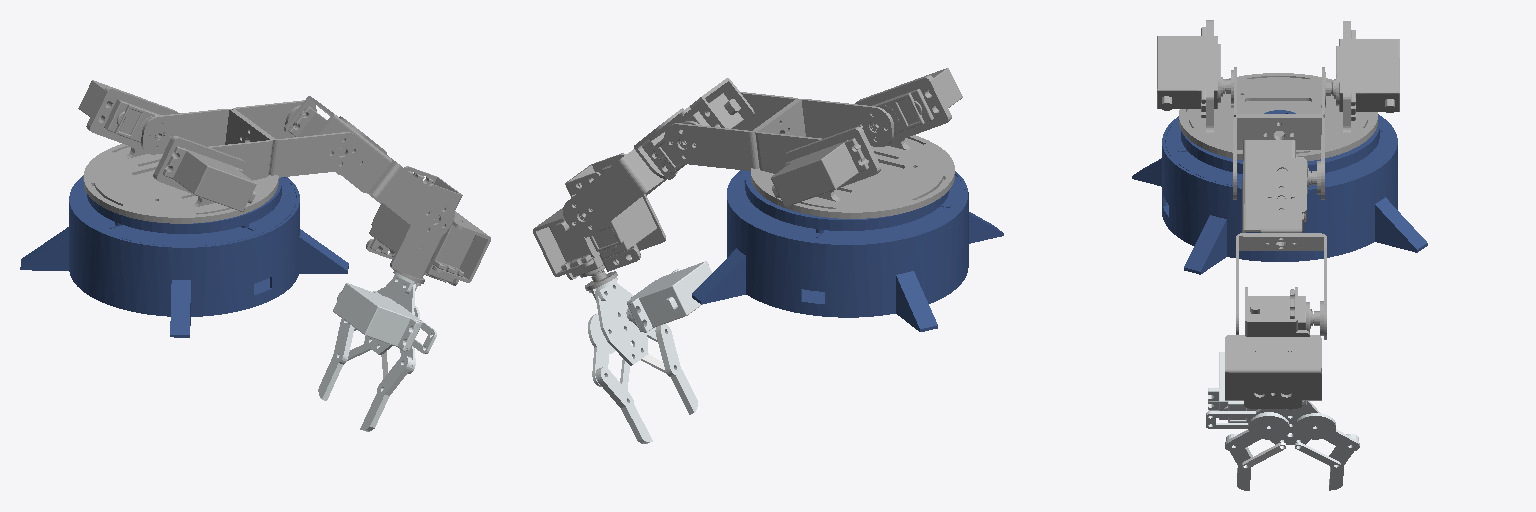
URDF robot description (robot_arm):
<?xml version="1.0" ?>
<!-- =================================================================================== -->
<!-- |    This document was autogenerated by xacro from robot_arm.xacro                | -->
<!-- |    EDITING THIS FILE BY HAND IS NOT RECOMMENDED                                 | -->
<!-- =================================================================================== -->
<robot name="robot_arm">
  <material name="silver">
    <color rgba="0.7 0.7 0.7 1.0"/>
  </material>
  <material name="blue">
    <color rgba="0.3 0.4 0.6 1.0"/>
  </material>
  <transmission name="joint_1_trans">
    <type>transmission_interface/SimpleTransmission</type>
    <joint name="joint_1">
      <hardwareInterface>hardware_interface/PositionJointInterface</hardwareInterface>
    </joint>
    <actuator name="joint_1_actr">
      <hardwareInterface>hardware_interface/PositionJointInterface</hardwareInterface>
      <mechanicalReduction>1</mechanicalReduction>
    </actuator>
  </transmission>
  <transmission name="joint_2_trans">
    <type>transmission_interface/SimpleTransmission</type>
    <joint name="joint_2">
      <hardwareInterface>hardware_interface/PositionJointInterface</hardwareInterface>
    </joint>
    <actuator name="joint_2_actr">
      <hardwareInterface>hardware_interface/PositionJointInterface</hardwareInterface>
      <mechanicalReduction>1</mechanicalReduction>
    </actuator>
  </transmission>
  <transmission name="joint_3_trans">
    <type>transmission_interface/SimpleTransmission</type>
    <joint name="joint_3">
      <hardwareInterface>hardware_interface/PositionJointInterface</hardwareInterface>
    </joint>
    <actuator name="joint_3_actr">
      <hardwareInterface>hardware_interface/PositionJointInterface</hardwareInterface>
      <mechanicalReduction>1</mechanicalReduction>
    </actuator>
  </transmission>
  <transmission name="joint_4_trans">
    <type>transmission_interface/SimpleTransmission</type>
    <joint name="joint_4">
      <hardwareInterface>hardware_interface/PositionJointInterface</hardwareInterface>
    </joint>
    <actuator name="joint_4_actr">
      <hardwareInterface>hardware_interface/PositionJointInterface</hardwareInterface>
      <mechanicalReduction>1</mechanicalReduction>
    </actuator>
  </transmission>
  <transmission name="joint_5_trans">
    <type>transmission_interface/SimpleTransmission</type>
    <joint name="joint_5">
      <hardwareInterface>hardware_interface/PositionJointInterface</hardwareInterface>
    </joint>
    <actuator name="joint_5_actr">
      <hardwareInterface>hardware_interface/PositionJointInterface</hardwareInterface>
      <mechanicalReduction>1</mechanicalReduction>
    </actuator>
  </transmission>
  <!-- gripper -->
  <transmission name="hand_joint1_trans">
    <type>transmission_interface/SimpleTransmission</type>
    <joint name="hand_joint1">
      <hardwareInterface>hardware_interface/PositionJointInterface</hardwareInterface>
    </joint>
    <actuator name="hand_joint1_actr">
      <hardwareInterface>hardware_interface/PositionJointInterface</hardwareInterface>
      <mechanicalReduction>1</mechanicalReduction>
    </actuator>
  </transmission>
  <transmission name="hand_grip_joint1_trans">
    <type>transmission_interface/SimpleTransmission</type>
    <joint name="hand_grip_joint1">
      <hardwareInterface>hardware_interface/PositionJointInterface</hardwareInterface>
    </joint>
    <actuator name="hand_grip_joint1_actr">
      <hardwareInterface>hardware_interface/PositionJointInterface</hardwareInterface>
      <mechanicalReduction>1</mechanicalReduction>
    </actuator>
  </transmission>
  <transmission name="gripper_joint_trans">
    <type>transmission_interface/SimpleTransmission</type>
    <joint name="gripper_joint">
      <hardwareInterface>hardware_interface/PositionJointInterface</hardwareInterface>
    </joint>
    <actuator name="gripper_joint_actr">
      <hardwareInterface>hardware_interface/PositionJointInterface</hardwareInterface>
      <mechanicalReduction>1</mechanicalReduction>
    </actuator>
  </transmission>
  <transmission name="hand_grip_joint2_trans">
    <type>transmission_interface/SimpleTransmission</type>
    <joint name="hand_grip_joint2">
      <hardwareInterface>hardware_interface/PositionJointInterface</hardwareInterface>
    </joint>
    <actuator name="hand_grip_joint2_actr">
      <hardwareInterface>hardware_interface/PositionJointInterface</hardwareInterface>
      <mechanicalReduction>1</mechanicalReduction>
    </actuator>
  </transmission>
  <transmission name="mid_joint_1_trans">
    <type>transmission_interface/SimpleTransmission</type>
    <joint name="mid_joint_1">
      <hardwareInterface>hardware_interface/PositionJointInterface</hardwareInterface>
    </joint>
    <actuator name="mid_joint_1_actr">
      <hardwareInterface>hardware_interface/PositionJointInterface</hardwareInterface>
      <mechanicalReduction>1</mechanicalReduction>
    </actuator>
  </transmission>
  <transmission name="mid_joint_2_trans">
    <type>transmission_interface/SimpleTransmission</type>
    <joint name="mid_joint_2">
      <hardwareInterface>hardware_interface/PositionJointInterface</hardwareInterface>
    </joint>
    <actuator name="mid_joint_2_actr">
      <hardwareInterface>hardware_interface/PositionJointInterface</hardwareInterface>
      <mechanicalReduction>1</mechanicalReduction>
    </actuator>
  </transmission>
  <gazebo>
    <plugin filename="libgazebo_ros_control.so" name="gazebo_ros_control"/>
  </gazebo>
  <gazebo reference="base_link">
    <material>Gazebo/Silver</material>
    <mu1>0.2</mu1>
    <mu2>0.2</mu2>
  </gazebo>
  <gazebo reference="Link1_1">
    <material>Gazebo/Silver</material>
    <mu1>0.2</mu1>
    <mu2>0.2</mu2>
  </gazebo>
  <gazebo reference="Link2_1">
    <material>Gazebo/Silver</material>
    <mu1>0.2</mu1>
    <mu2>0.2</mu2>
  </gazebo>
  <gazebo reference="Link3_1">
    <material>Gazebo/Silver</material>
    <mu1>0.2</mu1>
    <mu2>0.2</mu2>
  </gazebo>
  <gazebo reference="Link4_1">
    <material>Gazebo/Silver</material>
    <mu1>0.2</mu1>
    <mu2>0.2</mu2>
  </gazebo>
  <link name="world"/>
  <joint name="base_fixed_joint" type="fixed">
    <origin rpy="0 0 1.57" xyz="0 0 0"/>
    <parent link="world"/>
    <child link="base_link"/>
  </joint>
  <link name="base_link">
    <inertial>
      <origin rpy="0 0 0" xyz="-0.0019226671084236508 0.03127199959893212 0.003074002176362074"/>
      <mass value="0.1"/>
      <inertia ixx="0.0135" ixy="0.0" ixz="0.0" iyy="0.0135" iyz="0.0" izz="0.05"/>
    </inertial>
    <visual>
      <origin rpy="1.57 0 1.3" xyz="0 0 0"/>
      <geometry>
        <mesh filename="package://my_arm_description/meshes/base_link.stl" scale="0.001 0.001 0.001"/>
      </geometry>
      <material name="blue"/>
    </visual>
    <collision>
      <origin rpy="1.57 0 1.3" xyz="0 0 0"/>
      <geometry>
        <mesh filename="package://my_arm_description/meshes/base_link.stl" scale="0.001 0.001 0.001"/>
      </geometry>
    </collision>
  </link>
  <link name="Link1_1">
    <inertial>
      <origin rpy="0 0 0" xyz="-4.991869489348773e-06 0.01780900870871517 0.005735315172792203"/>
      <mass value="0.08948947756149551"/>
      <inertia ixx="0.000574" ixy="-1.2e-05" ixz="-2e-05" iyy="0.002344" iyz="-7.9e-05" izz="0.002106"/>
    </inertial>
    <visual>
      <origin rpy="0 0 0" xyz="0.002688 -0.06295 -0.001684"/>
      <geometry>
        <mesh filename="package://my_arm_description/meshes/Link1_1.stl" scale="0.001 0.001 0.001"/>
      </geometry>
      <material name="silver"/>
    </visual>
    <collision>
      <origin rpy="0 0 0" xyz="0.002688 -0.06295 -0.001684"/>
      <geometry>
        <mesh filename="package://my_arm_description/meshes/Link1_1.stl" scale="0.001 0.001 0.001"/>
      </geometry>
    </collision>
  </link>
  <link name="Link2_1">
    <inertial>
      <origin rpy="0 0 0" xyz="0.025500212363618904 0.050000197846483144 2.9486110807164234e-07"/>
      <mass value="0.01268747558623512"/>
      <inertia ixx="0.000111" ixy="0.0" ixz="-0.0" iyy="7.8e-05" iyz="-0.0" izz="0.000176"/>
    </inertial>
    <visual>
      <origin rpy="0 0 0" xyz="0.028738 -0.084331 -0.001684"/>
      <geometry>
        <mesh filename="package://my_arm_description/meshes/Link2_1.stl" scale="0.001 0.001 0.001"/>
      </geometry>
      <material name="silver"/>
    </visual>
    <collision>
      <origin rpy="0 0 0" xyz="0.028738 -0.084331 -0.001684"/>
      <geometry>
        <mesh filename="package://my_arm_description/meshes/Link2_1.stl" scale="0.001 0.001 0.001"/>
      </geometry>
    </collision>
  </link>
  <link name="Link3_1">
    <inertial>
      <origin rpy="0 0 0" xyz="0.027076002474259824 0.019409440802769573 0.002368883434935072"/>
      <mass value="0.03877413615001566"/>
      <inertia ixx="0.00025" ixy="1e-05" ixz="0.0" iyy="0.000103" iyz="-7e-06" izz="0.00031"/>
    </inertial>
    <visual>
      <origin rpy="0 0 0" xyz="0.028738 -0.184331 -0.001684"/>
      <geometry>
        <mesh filename="package://my_arm_description/meshes/Link3_1.stl" scale="0.001 0.001 0.001"/>
      </geometry>
      <material name="silver"/>
    </visual>
    <collision>
      <origin rpy="0 0 0" xyz="0.028738 -0.184331 -0.001684"/>
      <geometry>
        <mesh filename="package://my_arm_description/meshes/Link3_1.stl" scale="0.001 0.001 0.001"/>
      </geometry>
    </collision>
  </link>
  <link name="Link4_1">
    <inertial>
      <origin rpy="0 0 0" xyz="0.02792782389157162 0.0015768795382742895 -0.009656526599892783"/>
      <mass value="0.030477625056794005"/>
      <inertia ixx="6.9e-05" ixy="-1e-06" ixz="2e-06" iyy="9.7e-05" iyz="0.0" izz="5.9e-05"/>
    </inertial>
    <visual>
      <origin rpy="0 0 0" xyz="0.030288 -0.27563 -0.005184"/>
      <geometry>
        <mesh filename="package://my_arm_description/meshes/Link4_1.stl" scale="0.001 0.001 0.001"/>
      </geometry>
      <material name="silver"/>
    </visual>
    <collision>
      <origin rpy="0 0 0" xyz="0.030288 -0.27563 -0.005184"/>
      <geometry>
        <mesh filename="package://my_arm_description/meshes/Link4_1.stl" scale="0.001 0.001 0.001"/>
      </geometry>
    </collision>
  </link>
  <link name="Link5_1">
    <inertial>
      <origin rpy="0 0 0" xyz="0.02792782389157162 0.0015768795382742895 -0.009656526599892783"/>
      <mass value="0.030477625056794005"/>
      <inertia ixx="6.9e-05" ixy="-1e-06" ixz="2e-06" iyy="9.7e-05" iyz="0.0" izz="5.9e-05"/>
    </inertial>
    <visual>
      <origin rpy="0 0 0" xyz="0.030288 -0.27563 -0.005184"/>
      <geometry>
        <mesh filename="package://my_arm_description/meshes/Link4_1.stl" scale="0.001 0.001 0.001"/>
      </geometry>
      <material name="silver"/>
    </visual>
    <collision>
      <origin rpy="0 0 0" xyz="0.030288 -0.27563 -0.005184"/>
      <geometry>
        <mesh filename="package://my_arm_description/meshes/Link4_1.stl" scale="0.001 0.001 0.001"/>
      </geometry>
    </collision>
  </link>
  <joint name="joint_1" type="revolute">
    <origin rpy="1.57 0 3.14" xyz="0 0 0.06"/>
    <parent link="base_link"/>
    <child link="Link1_1"/>
    <axis xyz="0 1 0"/>
    <limit effort="5.0" lower="0.0" upper="3.14" velocity="1.57"/>
  </joint>
  <joint name="joint_2" type="revolute">
    <origin rpy="-1.7 0 0" xyz="-0.02605 0.021381 0.0"/>
    <parent link="Link1_1"/>
    <child link="Link2_1"/>
    <axis xyz="1 0 0"/>
    <limit effort="5.0" lower="0.0" upper="3.14" velocity="1.57"/>
  </joint>
  <joint name="joint_3" type="revolute">
    <origin rpy="3.8 0 0" xyz="0.0 0.1 0.0"/>
    <parent link="Link2_1"/>
    <child link="Link3_1"/>
    <axis xyz="1 0 0"/>
    <limit effort="5.0" lower="0.52" upper="3.14" velocity="1.57"/>
  </joint>
  <joint name="joint_4" type="revolute">
    <origin rpy="-1.57 0 0" xyz="-0.00155 0.091299 0.0035"/>
    <parent link="Link3_1"/>
    <child link="Link4_1"/>
    <axis xyz="1 0 0"/>
    <limit effort="5.0" lower="0.52" upper="3.14" velocity="1.57"/>
  </joint>
  <joint name="joint_5_fixed" type="fixed">
    <origin rpy="0 -1.57 0" xyz="0.02 0.025 -0.045"/>
    <parent link="Link4_1"/>
    <child link="Link5_1"/>
  </joint>
  <!-- gripper -->
  <joint name="joint_5" type="revolute">
    <!-- <origin rpy="1.57 0.7 -1.57" xyz="0 0 0"/> -->
    <origin rpy="1.57 -1.57 -1.57" xyz="0 0 0"/>
    <parent link="Link5_1"/>
    <child link="grip_base_link"/>
    <axis xyz="0 0 1"/>
    <limit effort="5.0" lower="0.0" upper="1.57" velocity="1.57"/>
  </joint>
  <link name="grip_base_link">
    <inertial>
      <origin rpy="0 0 0" xyz="-0.020531 -0.021072 0.02563"/>
      <mass value="0.00367"/>
      <inertia ixx="5.4785E-06" ixy="-5.5445E-08" ixz="-8.0352E-09" iyy="7.0866E-06" iyz="-7.7291E-13" izz="9.4579E-06"/>
    </inertial>
    <visual>
      <origin rpy="0 0 0" xyz="0 0 0"/>
      <geometry>
        <mesh filename="package://my_arm_description/meshes/gripper_meshes/grip_base_link.STL"/>
      </geometry>
      <material name="">
        <color rgba="0.89804 0.92157 0.92941 1"/>
      </material>
    </visual>
    <collision>
      <origin rpy="0 0 0" xyz="0 0 0"/>
      <geometry>
        <mesh filename="package://my_arm_description/meshes/gripper_meshes/grip_base_link.STL"/>
      </geometry>
    </collision>
  </link>
  <link name="hand_link1">
    <inertial>
      <origin rpy="0 0 0" xyz="-0.00523492547000686 0.00492501926066897 -0.00100000000000003"/>
      <mass value="0.000142065726893586"/>
      <inertia ixx="1.22964066308207E-07" ixy="8.46203793647206E-08" ixz="3.23650142493458E-27" iyy="1.33298297071557E-07" iyz="-7.87479068447034E-25" izz="2.55315258533807E-07"/>
    </inertial>
    <visual>
      <origin rpy="0 0 0" xyz="0 0 0"/>
      <geometry>
        <mesh filename="package://my_arm_description/meshes/gripper_meshes/hand_link1.STL"/>
      </geometry>
      <material name="">
        <color rgba="0.898039215686275 0.92156862745098 0.929411764705882 1"/>
      </material>
    </visual>
    <collision>
      <origin rpy="0 0 0" xyz="0 0 0"/>
      <geometry>
        <mesh filename="package://my_arm_description/meshes/gripper_meshes/hand_link1.STL"/>
      </geometry>
    </collision>
  </link>
  <joint name="hand_joint1" type="revolute">
    <origin rpy="1.5708 0 3.1416" xyz="0.015 0.00535 0.02625"/>
    <parent link="grip_base_link"/>
    <child link="hand_link1"/>
    <axis xyz="0 0 1"/>
    <limit effort="5.0" lower="-0.5" upper="0.5" velocity="1.57"/>
    <mimic joint="gripper_joint" multiplier="-1"/>
  </joint>
  <link name="hand_grip1">
    <inertial>
      <origin rpy="0 0 0" xyz="0.00594567238082101 0.0203210851839823 -0.00399999969237515"/>
      <mass value="0.000187045062582082"/>
      <inertia ixx="4.0782602368236E-07" ixy="-7.95845983485053E-08" ixz="-1.31395403259131E-14" iyy="3.53476941089525E-08" iyz="-2.03499073074993E-14" izz="4.38185846898205E-07"/>
    </inertial>
    <visual>
      <origin rpy="0 0 0" xyz="0 0 0"/>
      <geometry>
        <mesh filename="package://my_arm_description/meshes/gripper_meshes/hand_grip1.STL"/>
      </geometry>
      <material name="">
        <color rgba="0.898039215686275 0.92156862745098 0.929411764705882 1"/>
      </material>
    </visual>
    <collision>
      <origin rpy="0 0 0" xyz="0 0 0"/>
      <geometry>
        <mesh filename="package://my_arm_description/meshes/gripper_meshes/hand_grip1.STL"/>
      </geometry>
    </collision>
  </link>
  <joint name="hand_grip_joint1" type="revolute">
    <origin rpy="0 0 0" xyz="-0.021122 0.019871 0"/>
    <parent link="hand_link1"/>
    <child link="hand_grip1"/>
    <axis xyz="0 0 1"/>
    <limit effort="5.0" lower="-0.5" upper="0.5" velocity="1.57"/>
    <mimic joint="gripper_joint" multiplier="1"/>
  </joint>
  <link name="hand_link2">
    <inertial>
      <origin rpy="0 0 0" xyz="0.00521580581542747 0.00494526329837284 -0.00100000000000003"/>
      <mass value="0.000142065726893586"/>
      <inertia ixx="1.2361988419095E-07" ixy="-8.46578754757815E-08" ixz="6.873768146667E-25" iyy="1.32642479188815E-07" iyz="7.7917326290555E-25" izz="2.55315258533807E-07"/>
    </inertial>
    <visual>
      <origin rpy="0 0 0" xyz="0 0 0"/>
      <geometry>
        <mesh filename="package://my_arm_description/meshes/gripper_meshes/hand_link2.STL"/>
      </geometry>
      <material name="">
        <color rgba="0.898039215686275 0.92156862745098 0.929411764705882 1"/>
      </material>
    </visual>
    <collision>
      <origin rpy="0 0 0" xyz="0 0 0"/>
      <geometry>
        <mesh filename="package://my_arm_description/meshes/gripper_meshes/hand_link2.STL"/>
      </geometry>
    </collision>
  </link>
  <joint name="gripper_joint" type="revolute">
    <origin rpy="1.5708 0 3.1416" xyz="-0.013 0.00535 0.02625"/>
    <parent link="grip_base_link"/>
    <child link="hand_link2"/>
    <axis xyz="0 0 1"/>
    <limit effort="5.0" lower="-0.5" upper="0.5" velocity="1.57"/>
  </joint>
  <link name="hand_grip2">
    <inertial>
      <origin rpy="0 0 0" xyz="-0.00445045993813949 0.020700021082788 -0.00400000030762493"/>
      <mass value="0.000187045056346137"/>
      <inertia ixx="4.17408949625888E-07" ixy="5.16953875644496E-08" ixz="-1.17218822252589E-14" iyy="2.57647082341614E-08" iyz="2.12711331247855E-14" izz="4.38185787066717E-07"/>
    </inertial>
    <visual>
      <origin rpy="0 0 0" xyz="0 0 0"/>
      <geometry>
        <mesh filename="package://my_arm_description/meshes/gripper_meshes/hand_grip2.STL"/>
      </geometry>
      <material name="">
        <color rgba="0.898039215686275 0.92156862745098 0.929411764705882 1"/>
      </material>
    </visual>
    <collision>
      <origin rpy="0 0 0" xyz="0 0 0"/>
      <geometry>
        <mesh filename="package://my_arm_description/meshes/gripper_meshes/hand_grip2.STL"/>
      </geometry>
    </collision>
  </link>
  <joint name="hand_grip_joint2" type="revolute">
    <origin rpy="0 0 0" xyz="0.021045 0.019953 0"/>
    <parent link="hand_link2"/>
    <child link="hand_grip2"/>
    <axis xyz="0 0 -1"/>
    <limit effort="5.0" lower="-0.4" upper="0.4" velocity="1.57"/>
    <mimic joint="gripper_joint" multiplier="1"/>
  </joint>
  <link name="mid_link1">
    <inertial>
      <origin rpy="0 0 0" xyz="-0.0113240288488907 0.00983698991711786 -0.00100000000000003"/>
      <mass value="0.0000310995574287565"/>
      <inertia ixx="1.1783554463848E-08" ixy="1.26737094661928E-08" ixz="7.03369446242362E-26" iyy="1.53636899711256E-08" iyz="3.46383537128379E-26" izz="2.69399140521153E-08"/>
    </inertial>
    <visual>
      <origin rpy="0 0 0" xyz="0 0 0"/>
      <geometry>
        <mesh filename="package://my_arm_description/meshes/gripper_meshes/mid_link1.STL"/>
      </geometry>
      <material name="">
        <color rgba="0.898039215686275 0.92156862745098 0.929411764705882 1"/>
      </material>
    </visual>
    <collision>
      <origin rpy="0 0 0" xyz="0 0 0"/>
      <geometry>
        <mesh filename="package://my_arm_description/meshes/gripper_meshes/mid_link1.STL"/>
      </geometry>
    </collision>
  </link>
  <joint name="mid_joint_1" type="revolute">
    <origin rpy="1.5708 0 3.1416" xyz="0.005 0.00535 0.04675"/>
    <parent link="grip_base_link"/>
    <child link="mid_link1"/>
    <axis xyz="0 0 -1"/>
    <limit effort="5.0" lower="-0.6" upper="0.6" velocity="1.57"/>
    <mimic joint="gripper_joint" multiplier="1"/>
  </joint>
  <link name="mid_link2">
    <inertial>
      <origin rpy="0 0 0" xyz="0 0 0"/>
      <mass value="0.00003"/>
      <inertia ixx="0" ixy="0" ixz="0" iyy="0" iyz="0" izz="0"/>
    </inertial>
    <visual>
      <origin rpy="0 0 0" xyz="0 0 0"/>
      <geometry>
        <mesh filename="package://my_arm_description/meshes/gripper_meshes/mid_link2.STL"/>
      </geometry>
      <material name="">
        <color rgba="1 1 1 1"/>
      </material>
    </visual>
    <collision>
      <origin rpy="0 0 0" xyz="0 0 0"/>
      <geometry>
        <mesh filename="package://my_arm_description/meshes/gripper_meshes/mid_link2.STL"/>
      </geometry>
    </collision>
  </link>
  <joint name="mid_joint_2" type="revolute">
    <origin rpy="1.5708 0 3.1416" xyz="-0.005 0.00535 0.04675"/>
    <parent link="grip_base_link"/>
    <child link="mid_link2"/>
    <axis xyz="0 0 -1"/>
    <limit effort="5.0" lower="-0.6" upper="0.6" velocity="1.57"/>
    <mimic joint="gripper_joint" multiplier="-1"/>
  </joint>
  <!-- TCP -->
  <link name="tool_link"/>
  <joint name="tool_joint" type="fixed">
    <origin rpy="0 0 0" xyz="0 0 0.1"/>
    <parent link="grip_base_link"/>
    <child link="tool_link"/>
  </joint>
</robot>

--- Render facts (derived) ---
Views: 3 orthographic renders of the robot side by side, from view 1: azimuth 30°, elevation 25°; view 2: azimuth 150°, elevation 25°; view 3: azimuth 270°, elevation 25°.
Robot: robot_arm — 15 links, 14 joints (11 revolute, 3 fixed); root link world; default pose: all joints at 0 but 2 set to mid-range because 0 is outside their limits (joint_3 = 1.83, joint_4 = 1.83).
Links seen in each view (by area): view 1: base_link, Link1_1, Link2_1, Link3_1, grip_base_link, Link4_1, Link5_1, hand_grip2, hand_grip1; view 2: base_link, Link1_1, Link2_1, Link3_1, grip_base_link, Link4_1, Link5_1, hand_grip2, hand_grip1, hand_link1; view 3: base_link, Link1_1, Link3_1, Link5_1, Link2_1, Link4_1, grip_base_link, hand_link1, hand_link2, hand_grip1, hand_grip2.
Link boxes in pixels (x1,y1,x2,y2): base_link: (20, 176, 348, 337); Link1_1: (78, 80, 278, 223); Link2_1: (141, 100, 359, 179); Link3_1: (284, 96, 454, 239); grip_base_link: (333, 271, 436, 354); Link4_1: (366, 166, 462, 278); Link5_1: (393, 211, 490, 285); hand_grip2: (360, 355, 412, 431); hand_grip1: (318, 319, 354, 400); base_link: (692, 170, 1003, 331); Link1_1: (751, 68, 962, 218); Link2_1: (664, 92, 893, 173); Link3_1: (563, 78, 754, 237); grip_base_link: (589, 261, 711, 365); Link4_1: (565, 153, 665, 271); Link5_1: (533, 208, 617, 290); hand_grip2: (655, 324, 697, 414); hand_grip1: (595, 367, 652, 443); hand_link1: (588, 314, 615, 386); base_link: (1132, 110, 1427, 274); Link1_1: (1157, 20, 1399, 160); Link3_1: (1236, 140, 1326, 339); Link5_1: (1225, 335, 1321, 409); Link2_1: (1233, 67, 1324, 199); Link4_1: (1245, 287, 1323, 336); grip_base_link: (1206, 352, 1320, 444); hand_link1: (1295, 413, 1359, 451); hand_link2: (1225, 413, 1289, 451); hand_grip1: (1329, 434, 1358, 490); hand_grip2: (1226, 434, 1252, 490).
Bounding box of the posed robot: 0.2878 × 0.1778 × 0.2437 m (x, y, z).
13 mesh visuals loaded from 12 distinct referenced files (12 binary STL).